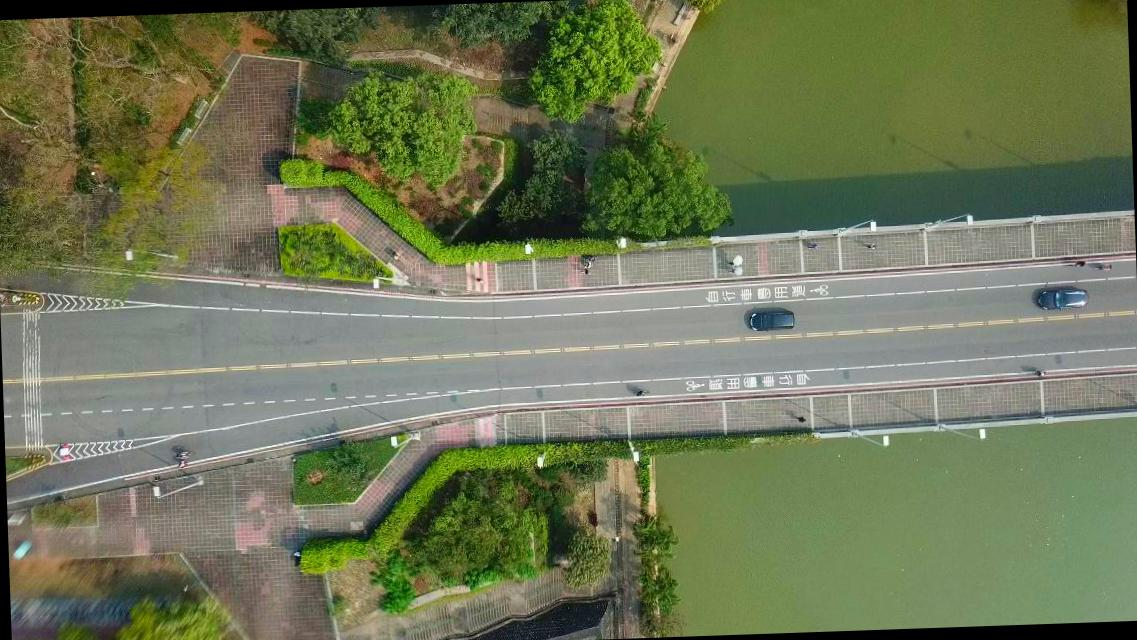vehicle: (1034, 286, 1088, 310), (748, 308, 793, 332)
